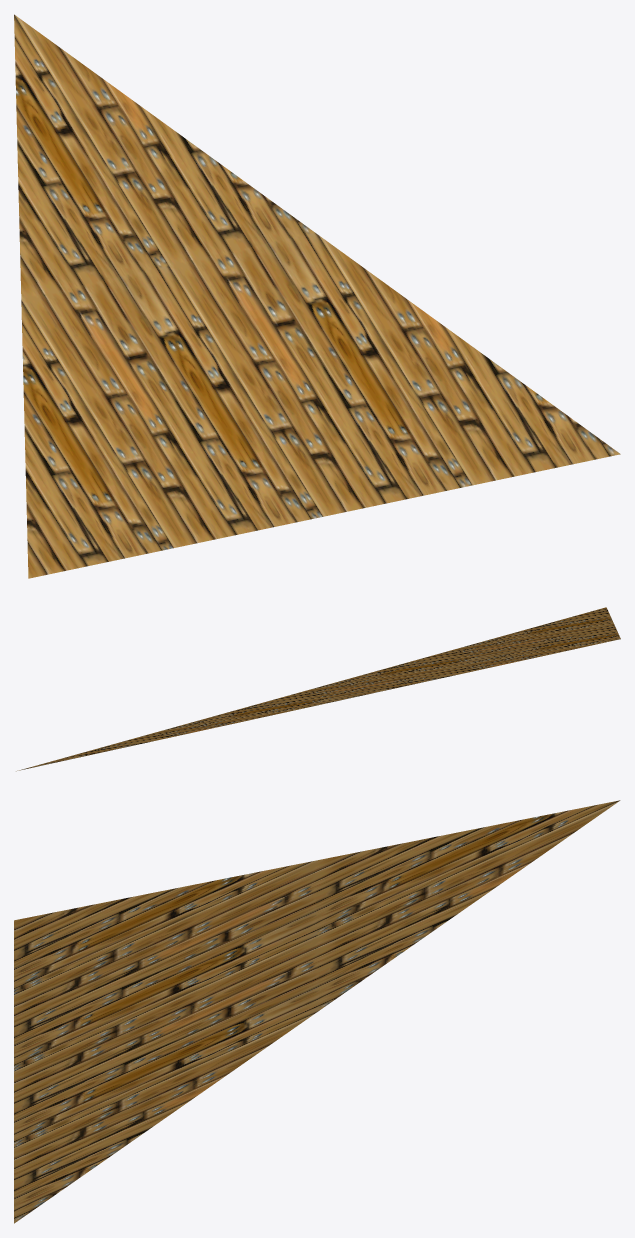
Rendered from Schiff_BugPlattform_1279.glb.
3 views of the same model, one above another, from view 1: azimuth 30°, elevation 25°; view 2: azimuth 210°, elevation 25°; view 3: azimuth 270°, elevation 25° (orthographic).
Parts seen in each view (by area): view 1: ship_plattform_bugShape1; view 2: ship_plattform_bugShape1; view 3: ship_plattform_bugShape1.
Boxes of the visible parts, <box> form: ship_plattform_bugShape1: <box>14,14,620,578</box>; ship_plattform_bugShape1: <box>16,607,620,771</box>; ship_plattform_bugShape1: <box>14,800,620,1223</box>.
Bounding box in the file's own units: 1.22 × 0.5635 × 1.1.
1 material, 1 textured.
